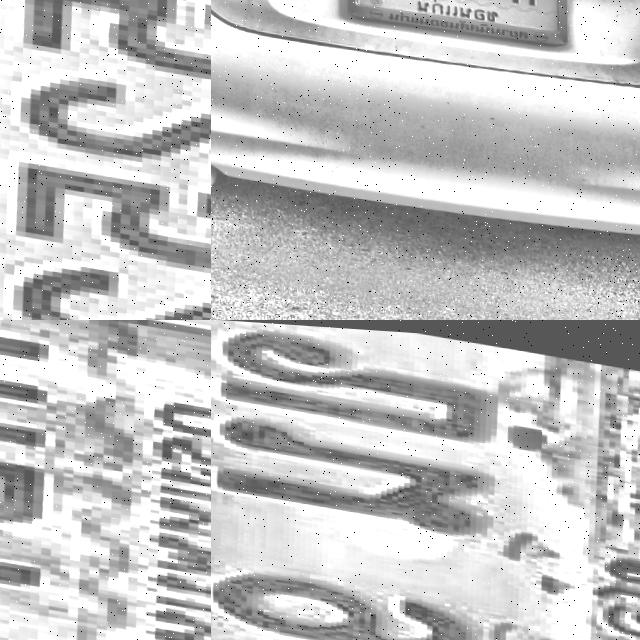license-plate: (211, 320, 640, 640), (0, 0, 211, 320), (0, 320, 211, 640), (347, 0, 491, 63)
